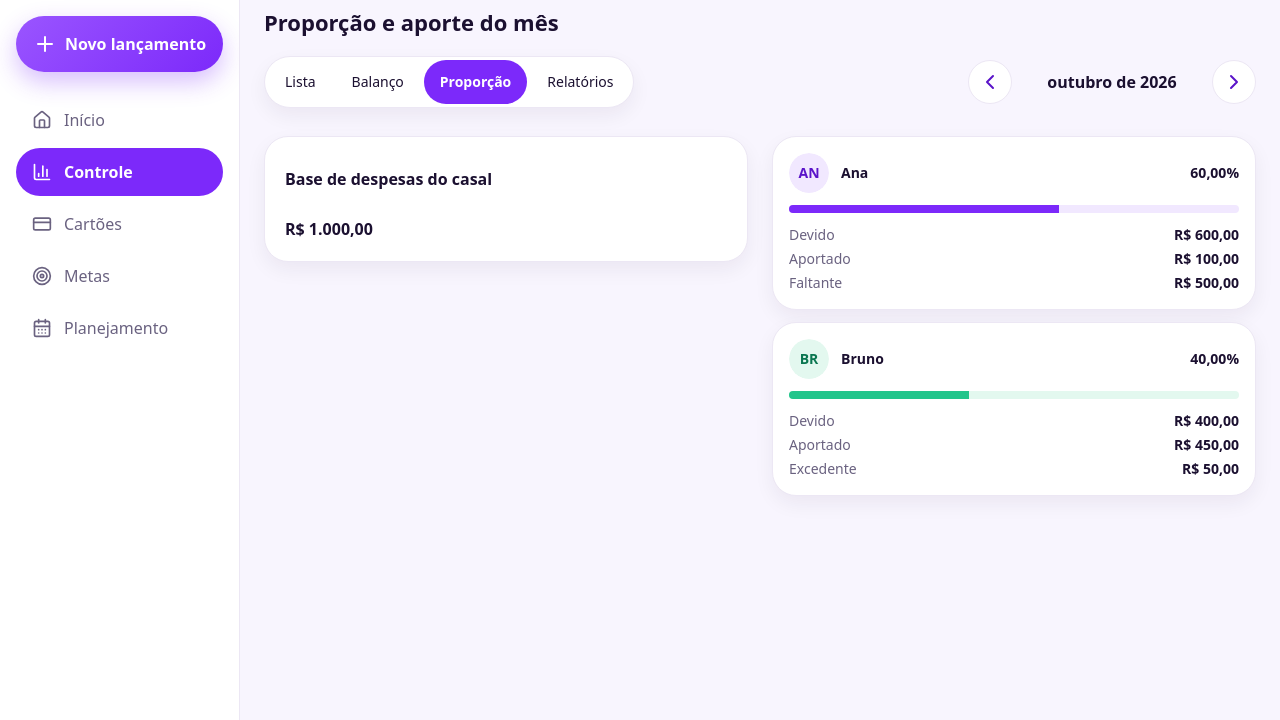
Scenario: tela "Proporção e aporte do mês" (CA-3.20) › consulta o mês do seletor e, ao trocar o mês, mostra os valores do novo mês
Expected: the text "outubro de 2026" is shown, [1047, 71, 1177, 93]
Click the button named "mês anterior".
click(990, 82)  # box [968, 60, 1012, 104]
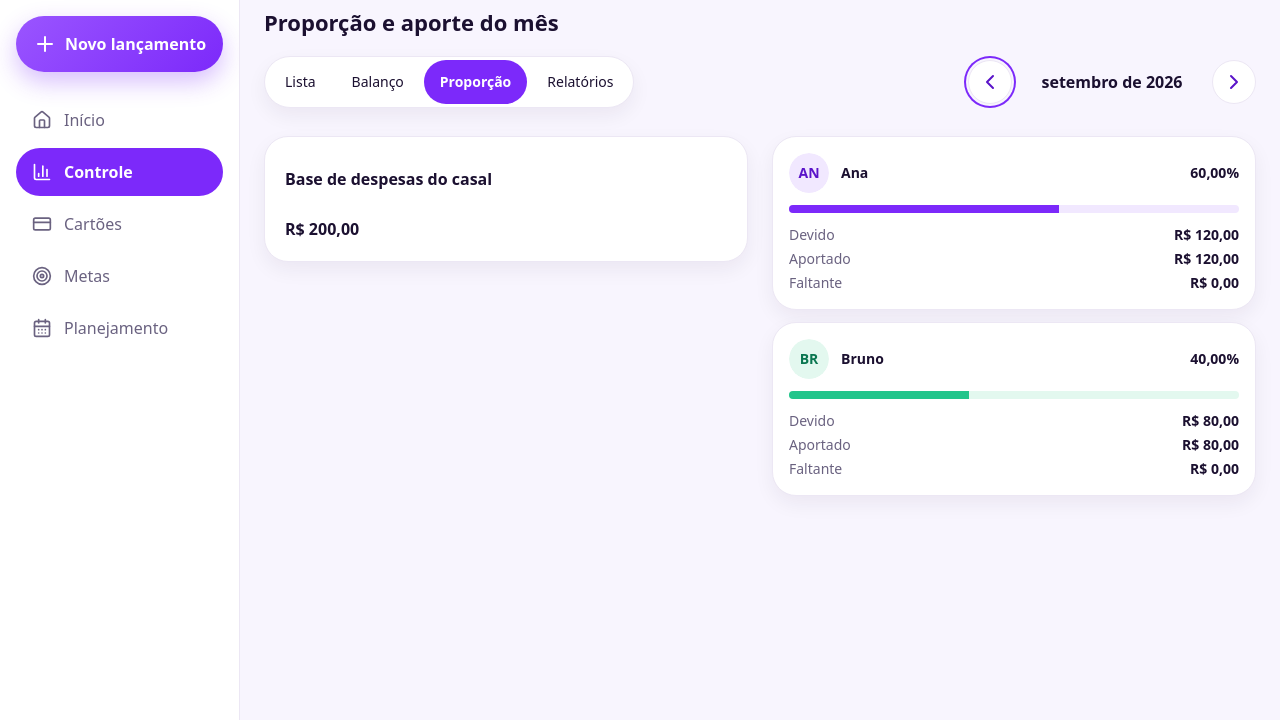
Now the text "setembro de 2026" is shown, box [1042, 71, 1182, 93]
Now the element "Base de despesas do casal" reads "Base de despesas do casal R$ 200,00", box [285, 218, 359, 240]
